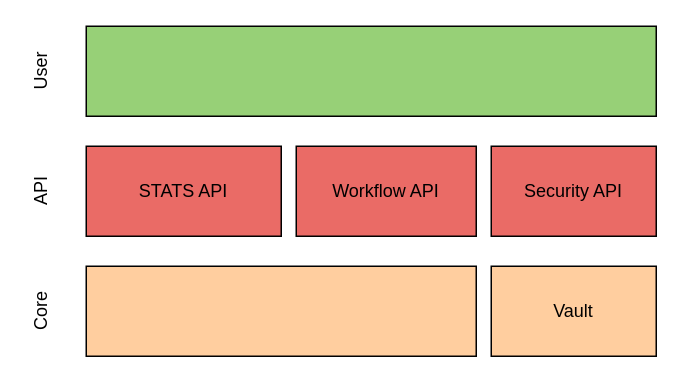
This 683x383 diagram has some shape labels left out. The shapes that lost their labels are listed below. From the top down, each one's centre as x and y in pixels, then its label:
point (370, 70): Angular, JS, Highcharts, D3, Gulp
point (280, 310): IMDG
